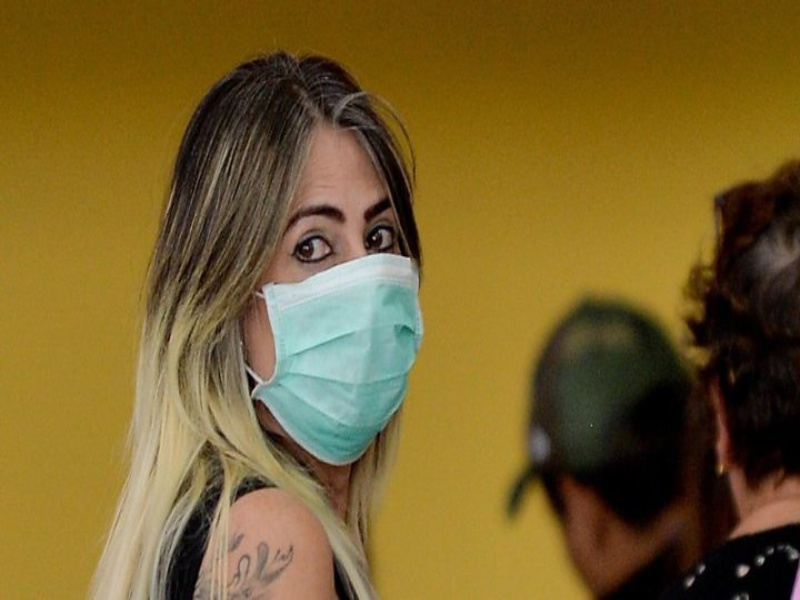ManaoArotava: (217, 102, 437, 483)
